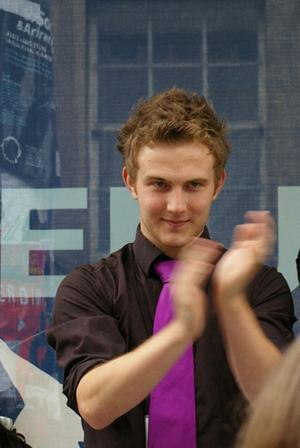person: (47, 82, 299, 446)
